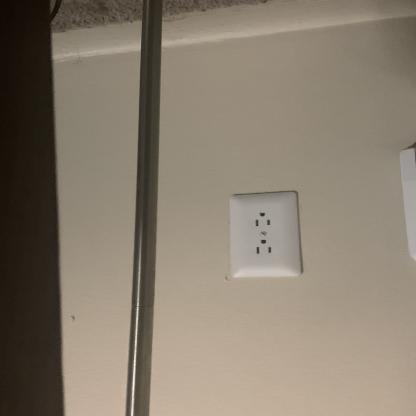OUTLET: (228, 188, 301, 278)
